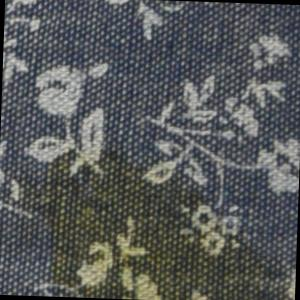Stain: (14, 136, 300, 300)
